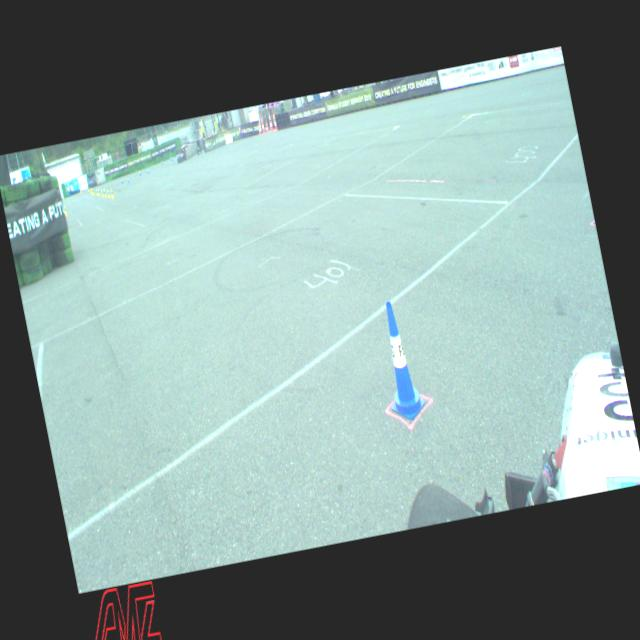blue_cone: (372, 298, 429, 424), (127, 176, 130, 183), (147, 167, 150, 174), (121, 177, 124, 184), (161, 159, 164, 166), (103, 186, 105, 193), (140, 170, 142, 177)
yellow_cone: (110, 188, 115, 199), (64, 204, 68, 216), (107, 188, 111, 199), (101, 188, 105, 198), (104, 189, 108, 198), (95, 187, 98, 196), (92, 187, 95, 196), (98, 188, 100, 197)
